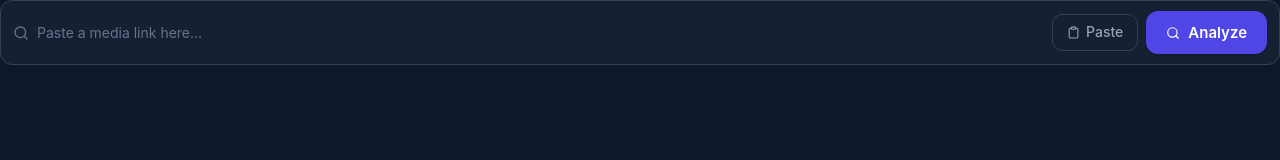
UrlInput — clear button › shows the clear button when the input has text
Type "https://example.com" into the field named "media url" at [541, 33], box [37,23,1044,43]
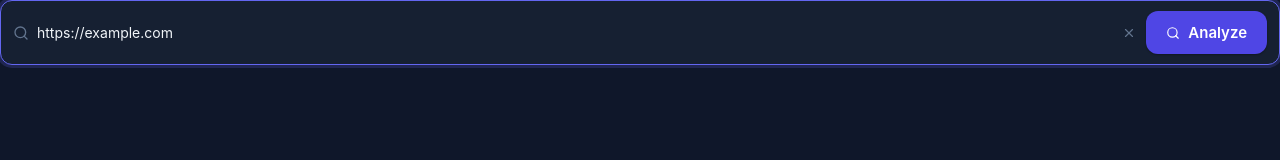
Expected: the button named "clear url" is shown, [1120,24,1138,42]
